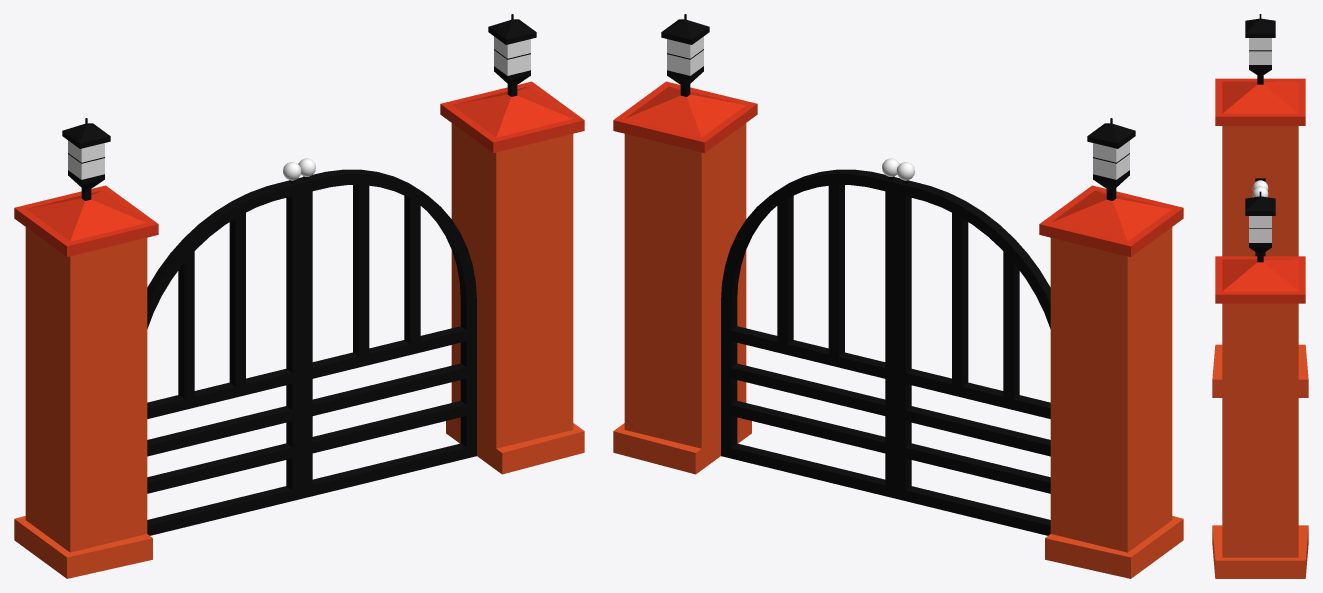
File: Gate.FBX
3 views of the same model, side by side, from view 1: azimuth 30°, elevation 25°; view 2: azimuth 150°, elevation 25°; view 3: azimuth 270°, elevation 25° (orthographic). The views are drawn at different scales.
Parts seen in each view (by area): view 1: Right Piller, Left Piller, Left Gate, Right Gate; view 2: Right Piller, Left Piller, Left Gate, Right Gate; view 3: Left Piller, Right Piller, Left Gate.
Part boxes in pixels (left/top/right/bottom): Right Piller: left=14, top=118, right=158, bottom=578; Left Piller: left=440, top=14, right=584, bottom=474; Left Gate: left=297, top=158, right=476, bottom=498; Right Gate: left=147, top=162, right=302, bottom=535; Right Piller: left=1039, top=118, right=1183, bottom=578; Left Piller: left=613, top=14, right=757, bottom=474; Left Gate: left=721, top=158, right=900, bottom=498; Right Gate: left=895, top=162, right=1050, bottom=535; Left Piller: left=1212, top=191, right=1308, bottom=578; Right Piller: left=1212, top=14, right=1308, bottom=397; Left Gate: left=1252, top=186, right=1268, bottom=256.
Bounding box in the file's own units: 5.04 × 4 × 0.95.
